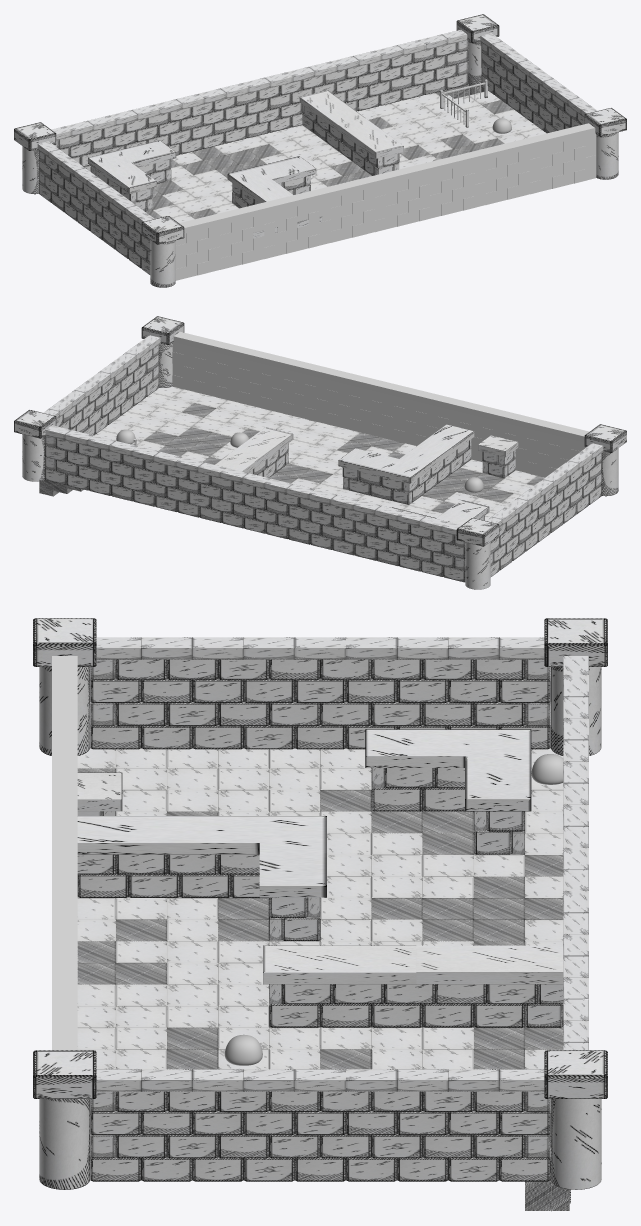
The model's file is локация.dae.
3 renders of one model, top to bottom at view 1: azimuth 30°, elevation 25°; view 2: azimuth 150°, elevation 25°; view 3: azimuth 270°, elevation 25°, orthographic. The views are drawn at different scales.
Parts seen in each view (by area): view 1: Cube.328, Cube.262, Cube.241, Cube.205, Cylinder, Cylinder.003, Cube, Cube.003, Cube.001, Cube.002, Cylinder.001, Cube.162 (+1 smaller); view 2: Cube.328, Cube.205, Cube.262, Cylinder.001, Cylinder.002, Cube.001, Cube.002, Cube.241, Cube, Cube.003, Cylinder, Cylinder.003 (+4 smaller); view 3: Cube.262, Cube.328, Cube.205, Cube.241, Cylinder.002, Cylinder.003, Cube.002, Cube.003, Cube, Cube.001, Cylinder, Cylinder.001 (+195 smaller).
Boxes of the visible parts, x1=… form: Cube.328: x1=175, y1=123, x2=596, y2=280; Cube.262: x1=299, y1=90, x2=403, y2=158; Cube.241: x1=88, y1=140, x2=176, y2=193; Cube.205: x1=228, y1=156, x2=315, y2=201; Cylinder: x1=150, y1=240, x2=175, y2=287; Cylinder.003: x1=596, y1=132, x2=618, y2=179; Cube: x1=141, y1=216, x2=184, y2=244; Cube.003: x1=584, y1=108, x2=626, y2=136; Cube.001: x1=14, y1=122, x2=56, y2=150; Cube.002: x1=456, y1=14, x2=499, y2=42; Cylinder.001: x1=22, y1=146, x2=39, y2=194; Cube.162: x1=440, y1=79, x2=487, y2=127; Cube.328: x1=172, y1=331, x2=589, y2=477; Cube.205: x1=338, y1=424, x2=473, y2=477; Cube.262: x1=214, y1=427, x2=293, y2=472; Cylinder.001: x1=465, y1=542, x2=490, y2=589; Cylinder.002: x1=22, y1=434, x2=45, y2=481; Cube.001: x1=456, y1=518, x2=499, y2=546; Cube.002: x1=14, y1=410, x2=56, y2=438; Cube.241: x1=392, y1=500, x2=489, y2=524; Cube: x1=584, y1=424, x2=626, y2=452; Cube.003: x1=141, y1=316, x2=184, y2=344; Cylinder: x1=601, y1=448, x2=618, y2=496; Cylinder.003: x1=158, y1=342, x2=172, y2=387; Cube.262: x1=263, y1=945, x2=563, y2=984; Cube.328: x1=52, y1=656, x2=77, y2=1050; Cube.205: x1=77, y1=816, x2=326, y2=885; Cube.241: x1=365, y1=729, x2=531, y2=811; Cylinder.002: x1=551, y1=1099, x2=601, y2=1189; Cylinder.003: x1=39, y1=1099, x2=89, y2=1189; Cube.002: x1=544, y1=1050, x2=607, y2=1098; Cube.003: x1=33, y1=1050, x2=96, y2=1098; Cube: x1=33, y1=618, x2=96, y2=666; Cube.001: x1=544, y1=618, x2=607, y2=666; Cylinder: x1=39, y1=667, x2=89, y2=755; Cylinder.001: x1=551, y1=667, x2=601, y2=755.
Bounding box in the file's own units: 42.5 × 22.5 × 6.5.
